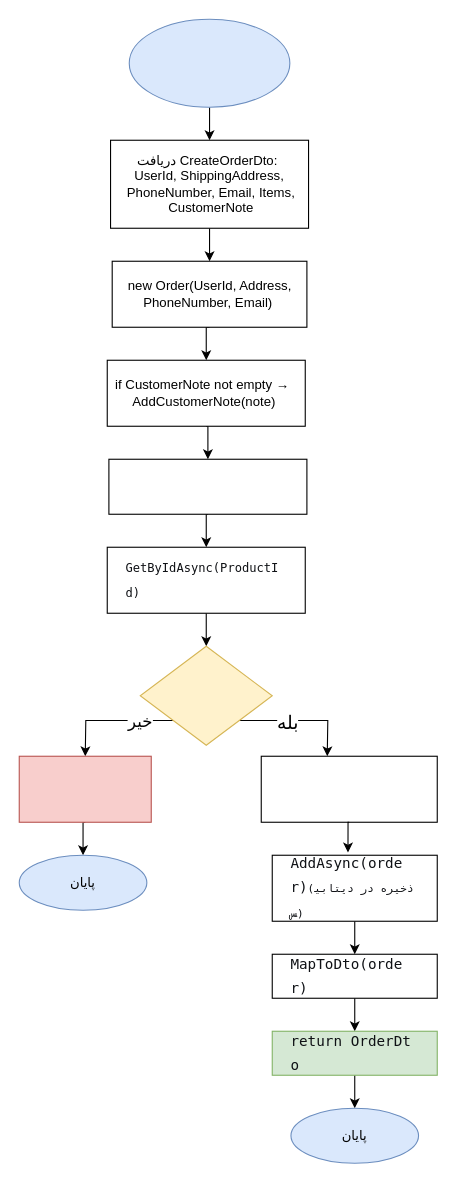
Some shapes in this 457 by 1183 pixel diagram are drawn without their labels. The shapes that lost their labels are listed below. From the top down, each one's centre as x and y in pixels, then its label:
the point at 209,62: شروع GetOrdersByUserIdAsync
the point at 207,486: برای هر آیتم در dto.Items:
the point at 205,695: محصول وجود دارد؟
the point at 84,788: throw Exception "Product not found"
the point at 348,788: order.AddItem(ProductId, ProductName, Quantity, UnitPrice)
